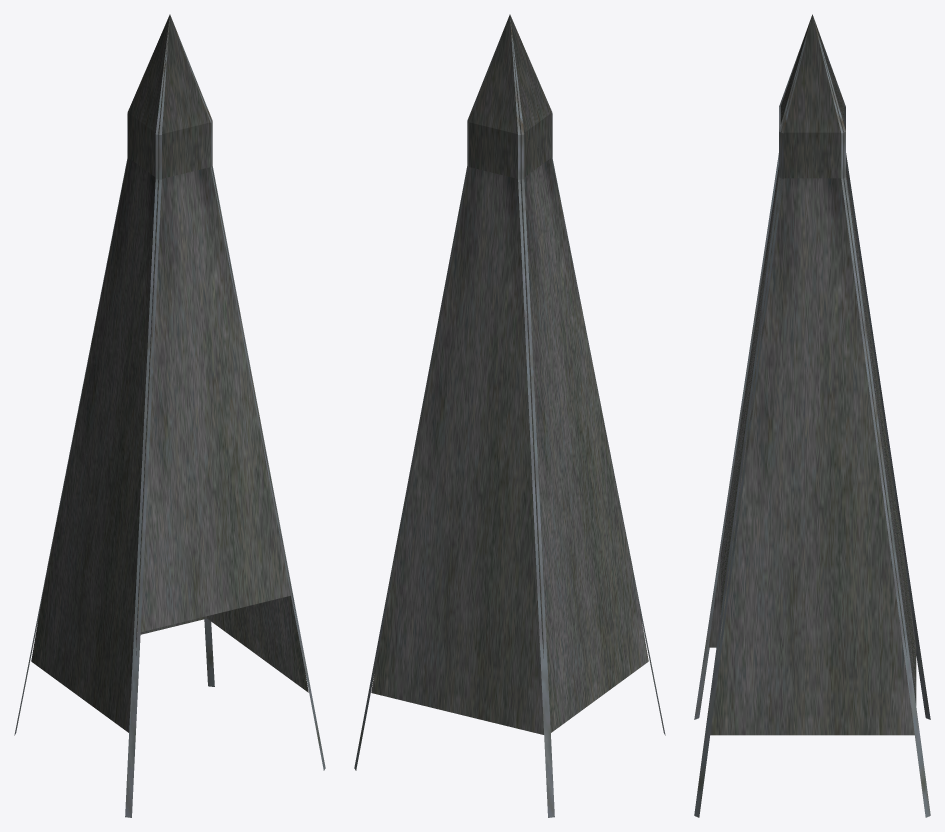
File: oilderricklod03.obj
3 renders of one model, left to right at view 1: azimuth 30°, elevation 25°; view 2: azimuth 150°, elevation 25°; view 3: azimuth 270°, elevation 25°, orthographic. The views are drawn at different scales.
Parts seen in each view (by area): view 1: oilderricklod03; view 2: oilderricklod03; view 3: oilderricklod03.
Boxes of the visible parts, box(x1,y1,x2,y2) form: oilderricklod03: box(14, 14, 325, 817); oilderricklod03: box(354, 14, 665, 817); oilderricklod03: box(694, 14, 930, 817).
Bounding box in the file's own units: 8.9 × 31.31 × 8.9.
Materials: 3 (3 with a texture image).
